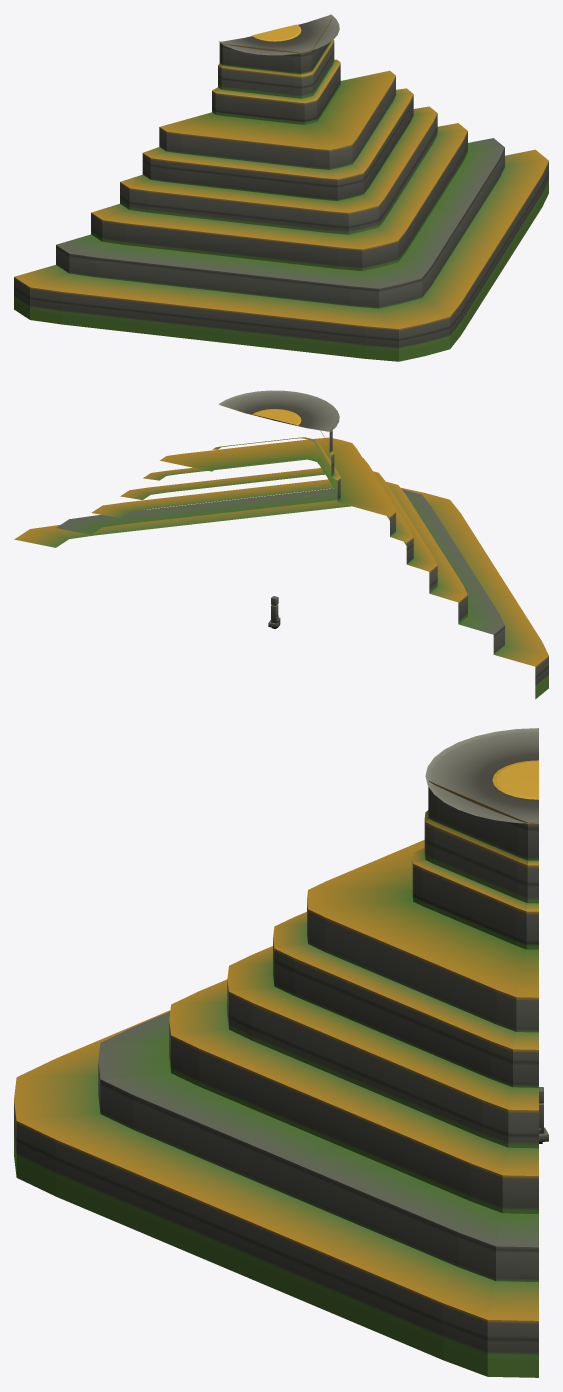
File: temple-s2-BoFkqj8Q.glb
3 views of the same model, one above another, from view 1: azimuth 30°, elevation 25°; view 2: azimuth 150°, elevation 25°; view 3: azimuth 270°, elevation 25° (orthographic). The views are drawn at different scales.
Parts seen in each view (by area): view 1: sc_landmark_1; view 2: sc_landmark_1; view 3: sc_landmark_1.
Part boxes in pixels (x1,y1,x2,y2): sc_landmark_1: [14, 14, 548, 361]; sc_landmark_1: [14, 390, 548, 699]; sc_landmark_1: [14, 728, 538, 1377].
Bounding box in the file's own units: 758 × 303 × 386.
